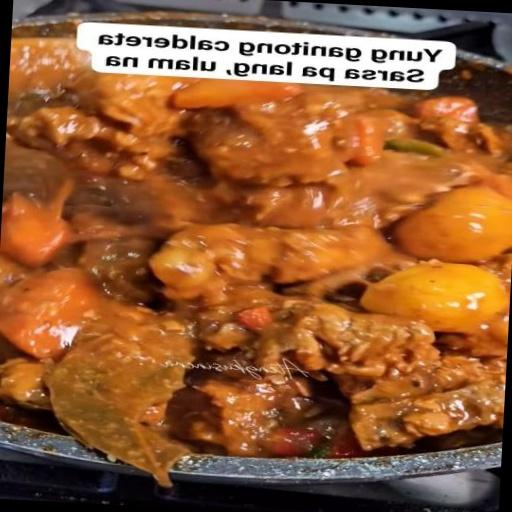pork caldereta: (8, 54, 512, 446)
